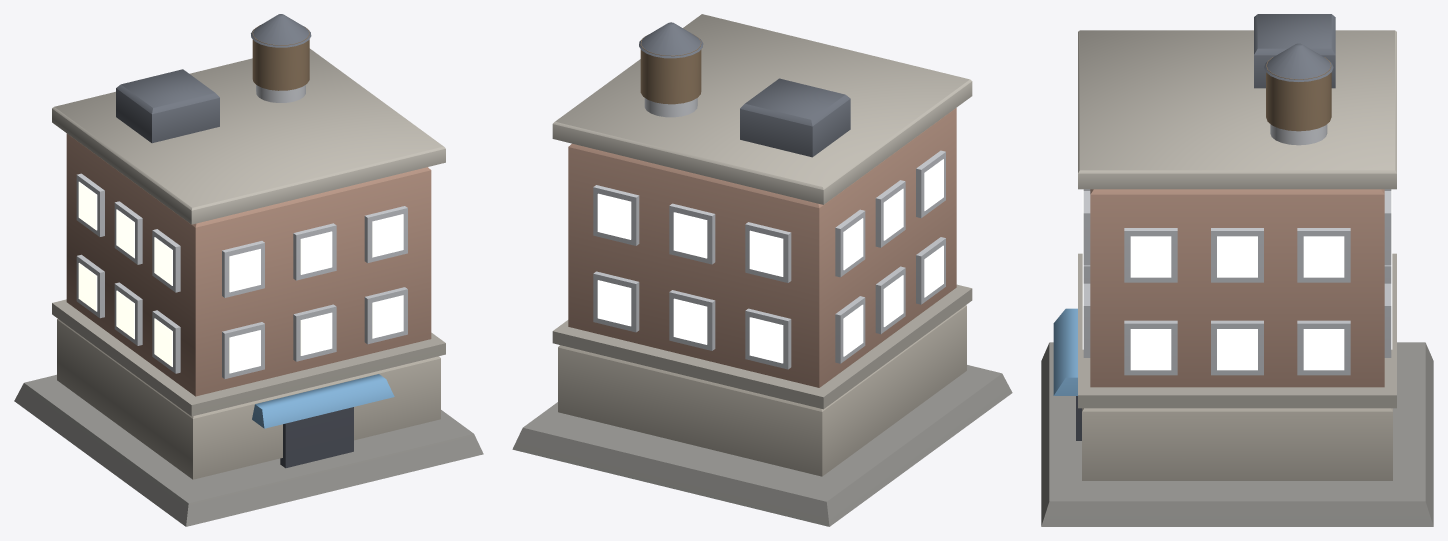
Rendered from civilian_building_intact.glb.
3 views of the same model, side by side, from view 1: azimuth 30°, elevation 25°; view 2: azimuth 150°, elevation 25°; view 3: azimuth 270°, elevation 25° (orthographic). The views are drawn at different scales.
Visible parts, largest first — view 1: Hull; view 2: Hull; view 3: Hull.
Boxes of the visible parts, <box> form: Hull: <box>14,14,483,526</box>; Hull: <box>512,14,1012,526</box>; Hull: <box>1041,14,1433,526</box>.
Size of what is drawn, in the model's own units: 1.92 by 2.33 by 1.92.
